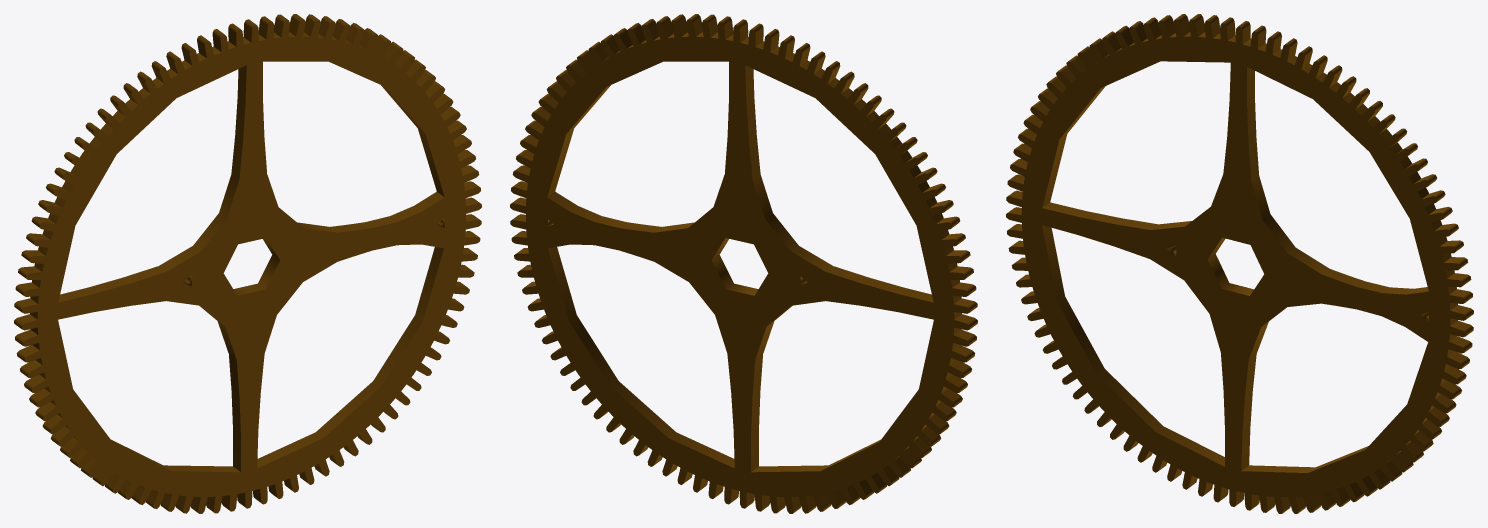
Rendered from Roue dente_Roue d arret Heures.obj.
3 renders of one model, left to right at view 1: azimuth 30°, elevation 25°; view 2: azimuth 150°, elevation 25°; view 3: azimuth 330°, elevation 25°, orthographic.
Visible parts, largest first — view 1: Face_2, Face_378, Face_369, Face_370, Face_364, Face_368, Face_381, Face_379, Face_374, Face_367; view 2: Face_3, Face_378, Face_369, Face_370, Face_364, Face_368, Face_381, Face_379, Face_374, Face_367; view 3: Face_2, Face_367, Face_373, Face_372, Face_377, Face_368, Face_371, Face_379, Face_378.
Boxes of the visible parts, bbox=[...] form: Face_2: bbox=[22, 19, 481, 513]; Face_378: bbox=[257, 247, 443, 468]; Face_369: bbox=[159, 174, 238, 271]; Face_370: bbox=[231, 65, 246, 179]; Face_364: bbox=[229, 354, 240, 471]; Face_368: bbox=[58, 266, 166, 302]; Face_381: bbox=[365, 191, 444, 227]; Face_379: bbox=[233, 238, 279, 295]; Face_374: bbox=[381, 85, 444, 196]; Face_367: bbox=[111, 439, 240, 472]; Face_3: bbox=[510, 19, 969, 513]; Face_378: bbox=[548, 247, 734, 468]; Face_369: bbox=[753, 174, 832, 271]; Face_370: bbox=[745, 65, 760, 179]; Face_364: bbox=[751, 354, 762, 471]; Face_368: bbox=[825, 266, 933, 302]; Face_381: bbox=[547, 191, 626, 227]; Face_379: bbox=[712, 238, 758, 295]; Face_374: bbox=[547, 85, 610, 196]; Face_367: bbox=[751, 439, 880, 472]; Face_2: bbox=[1006, 19, 1465, 513]; Face_367: bbox=[1042, 225, 1224, 466]; Face_373: bbox=[1251, 175, 1329, 274]; Face_372: bbox=[1247, 67, 1258, 180]; Face_377: bbox=[1241, 354, 1256, 470]; Face_368: bbox=[1042, 202, 1157, 229]; Face_371: bbox=[1042, 86, 1105, 207]; Face_379: bbox=[1208, 237, 1253, 295]; Face_378: bbox=[1241, 446, 1368, 472].
Size of the model in its own units: 0.0569 by 0.0569 by 0.0017.
